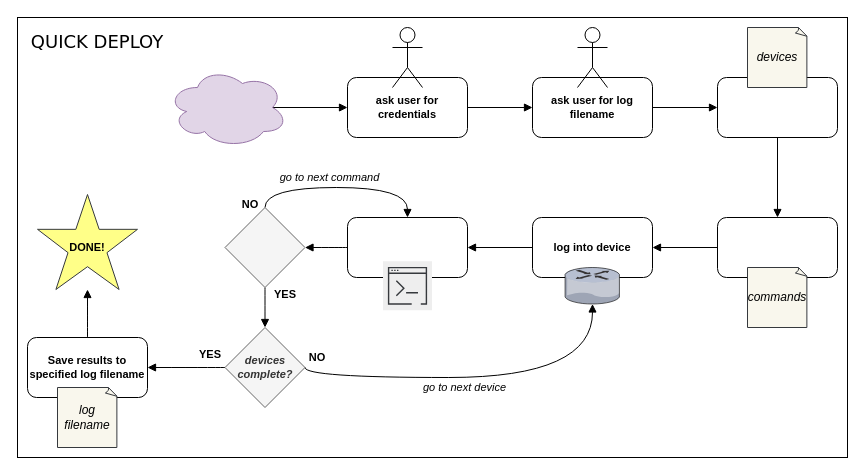
Image size: 865x475. Some labels were removed from this diagram. Each missing label, with the box of its shape:
commands complete?: (224, 206, 305, 288)
create list of commands from commands.txt/yml: (716, 216, 838, 278)
create list of devices from devices.txt/yml: (716, 76, 838, 138)
run command: (346, 216, 468, 278)
START SCRIPT!: (166, 66, 288, 148)
